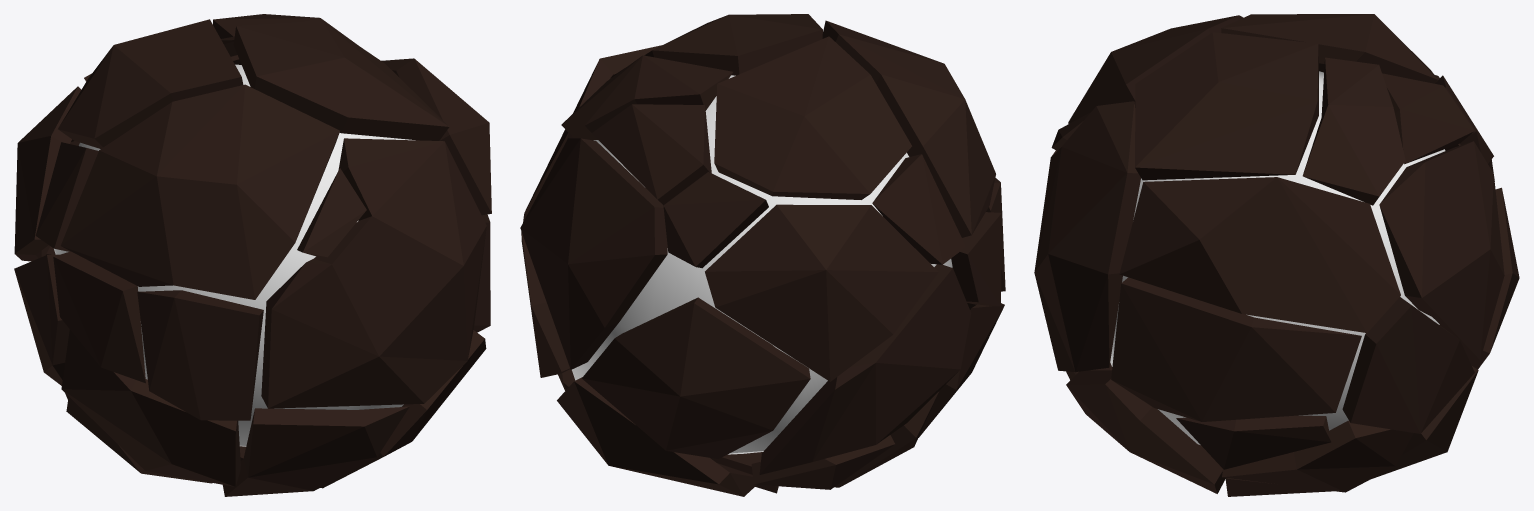
Rendered from Lava_Bomb.fbx.
3 views of the same model, side by side, from view 1: azimuth 30°, elevation 25°; view 2: azimuth 150°, elevation 25°; view 3: azimuth 270°, elevation 25° (orthographic).
Visible parts, largest first — view 1: Cube.047_cell.006, Cube.047_cell.003, Cube.047_cell.010, Cube.047_cell.016, Cube.047_cell.015, Cube.047_cell.023, Cube.047_cell.011, Cube.047_cell.028, Cube.047_cell.018, Cube.047_cell.009, LavaBomb, Cube.047_cell.024 (+6 smaller); view 2: Cube.047_cell.009, Cube.047_cell.015, Cube.047_cell.020, Cube.047_cell.002, Cube.047_cell.024, Cube.047_cell.003, LavaBomb, Cube.047_cell.026, Cube.047_cell.019, Cube.047_cell.010, Cube.047_cell.004, Cube.047_cell.017 (+9 smaller); view 3: Cube.047_cell.018, Cube.047_cell.005, Cube.047_cell.010, Cube.047_cell.006, Cube.047_cell.002, Cube.047_cell.014, Cube.047_cell.004, Cube.047_cell.025, Cube.047_cell.027, Cube.047_cell.015, Cube.047_cell.022, Cube.047_cell.003 (+6 smaller).
Boxes of the visible parts, box(x1,y1,x2,y2) form: Cube.047_cell.006: box(261, 138, 486, 408); Cube.047_cell.003: box(60, 84, 339, 299); Cube.047_cell.010: box(233, 20, 449, 140); Cube.047_cell.016: box(137, 290, 263, 420); Cube.047_cell.015: box(58, 19, 243, 148); Cube.047_cell.023: box(61, 329, 240, 486); Cube.047_cell.011: box(222, 406, 409, 496); Cube.047_cell.028: box(53, 251, 145, 383); Cube.047_cell.018: box(381, 58, 491, 215); Cube.047_cell.009: box(14, 86, 81, 261); LavaBomb: box(54, 64, 415, 446); Cube.047_cell.024: box(14, 254, 69, 385); Cube.047_cell.009: box(705, 204, 938, 381); Cube.047_cell.015: box(714, 36, 911, 199); Cube.047_cell.020: box(582, 297, 810, 459); Cube.047_cell.002: box(520, 138, 667, 369); Cube.047_cell.024: box(759, 264, 971, 474); Cube.047_cell.003: box(822, 20, 995, 237); LavaBomb: box(572, 75, 952, 454); Cube.047_cell.026: box(591, 104, 711, 205); Cube.047_cell.019: box(557, 377, 756, 496); Cube.047_cell.010: box(611, 14, 822, 77); Cube.047_cell.004: box(561, 55, 732, 139); Cube.047_cell.017: box(663, 172, 768, 268); Cube.047_cell.018: box(1119, 177, 1400, 332); Cube.047_cell.005: box(1111, 277, 1361, 421); Cube.047_cell.010: box(1135, 32, 1318, 180); Cube.047_cell.006: box(1034, 101, 1140, 372); Cube.047_cell.002: box(1379, 141, 1504, 359); Cube.047_cell.014: box(1342, 297, 1474, 433); Cube.047_cell.004: box(1302, 57, 1405, 205); Cube.047_cell.025: box(1066, 370, 1225, 493); Cube.047_cell.027: box(1222, 420, 1413, 492); Cube.047_cell.015: box(1221, 14, 1437, 83); Cube.047_cell.022: box(1176, 415, 1331, 469); Cube.047_cell.003: box(1068, 15, 1243, 123).
Size of the model in its own units: 159 by 158 by 161.
